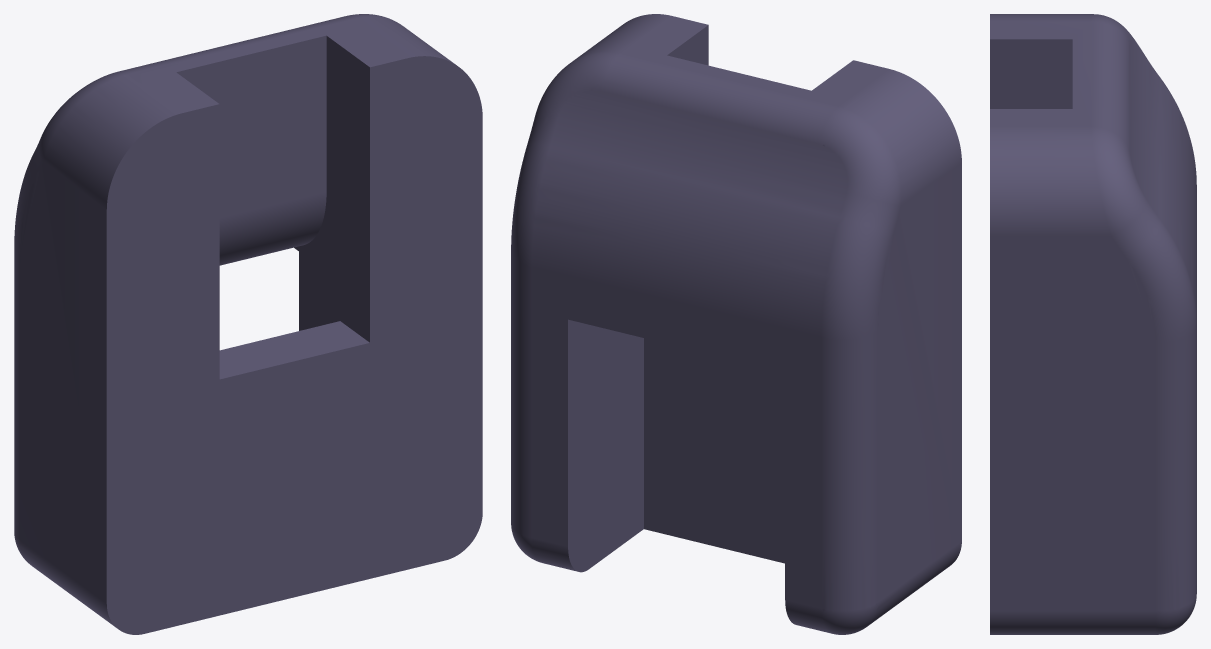
File: Main_ExtraPart3.dae
The picture shows the model from 3 angles, left to right: view 1: azimuth 30°, elevation 25°; view 2: azimuth 150°, elevation 25°; view 3: azimuth 270°, elevation 25°; orthographic projection. The views are drawn at different scales.
Parts seen in each view (by area): view 1: Main_ExtraPart3; view 2: Main_ExtraPart3; view 3: Main_ExtraPart3.
Part boxes in pixels (x1=…): Main_ExtraPart3: x1=14, y1=14, x2=482, y2=634; Main_ExtraPart3: x1=511, y1=14, x2=961, y2=634; Main_ExtraPart3: x1=990, y1=14, x2=1196, y2=634.
Size of the model in its own units: 0.01 by 0.005 by 0.013.
